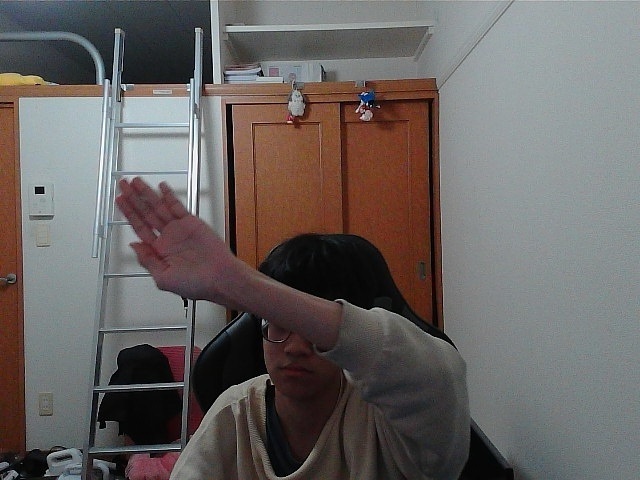open_palm: (120, 182, 219, 289)
